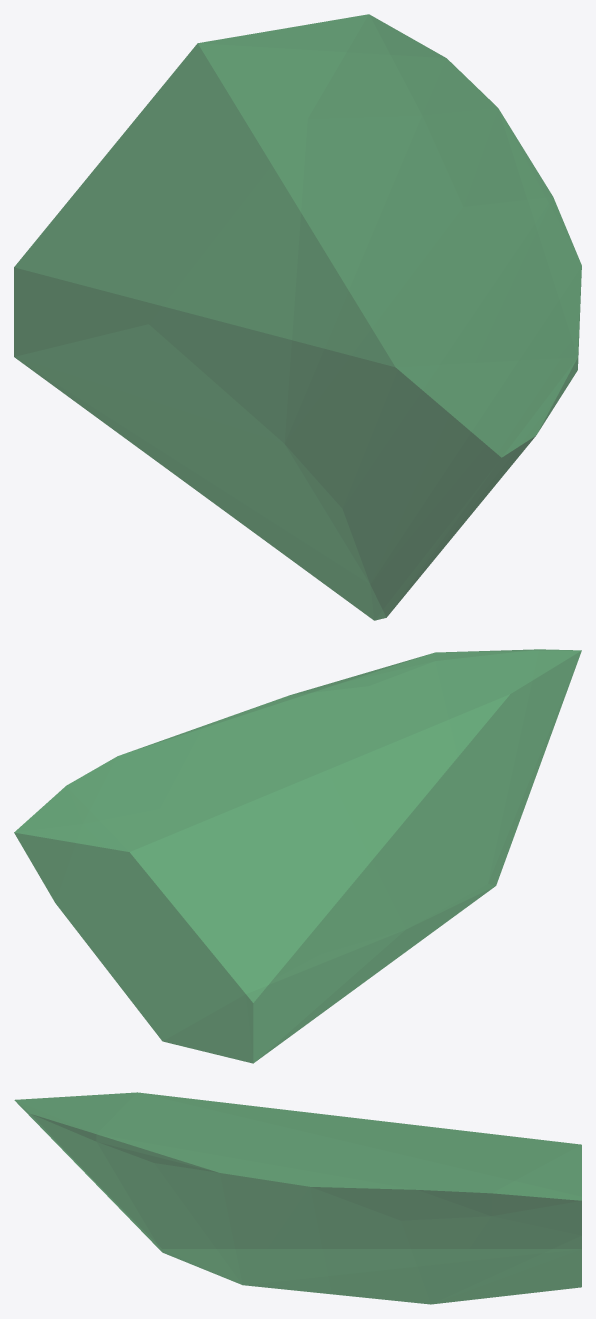
3 views of the same model, one above another, from view 1: azimuth 30°, elevation 25°; view 2: azimuth 150°, elevation 25°; view 3: azimuth 270°, elevation 25° (orthographic). The views are drawn at different scales.
Visible parts, largest first — view 1: Shape_IndexedFaceSet.008_Shape_IndexedFaceSet.20385; view 2: Shape_IndexedFaceSet.008_Shape_IndexedFaceSet.20385; view 3: Shape_IndexedFaceSet.008_Shape_IndexedFaceSet.20385.
Part boxes in pixels (x1=…): Shape_IndexedFaceSet.008_Shape_IndexedFaceSet.20385: x1=14, y1=14, x2=581, y2=620; Shape_IndexedFaceSet.008_Shape_IndexedFaceSet.20385: x1=14, y1=649, x2=581, y2=1063; Shape_IndexedFaceSet.008_Shape_IndexedFaceSet.20385: x1=14, y1=1092, x2=581, y2=1304.
Bounding box in the file's own units: 0.2218 × 0.1786 × 0.5276.
